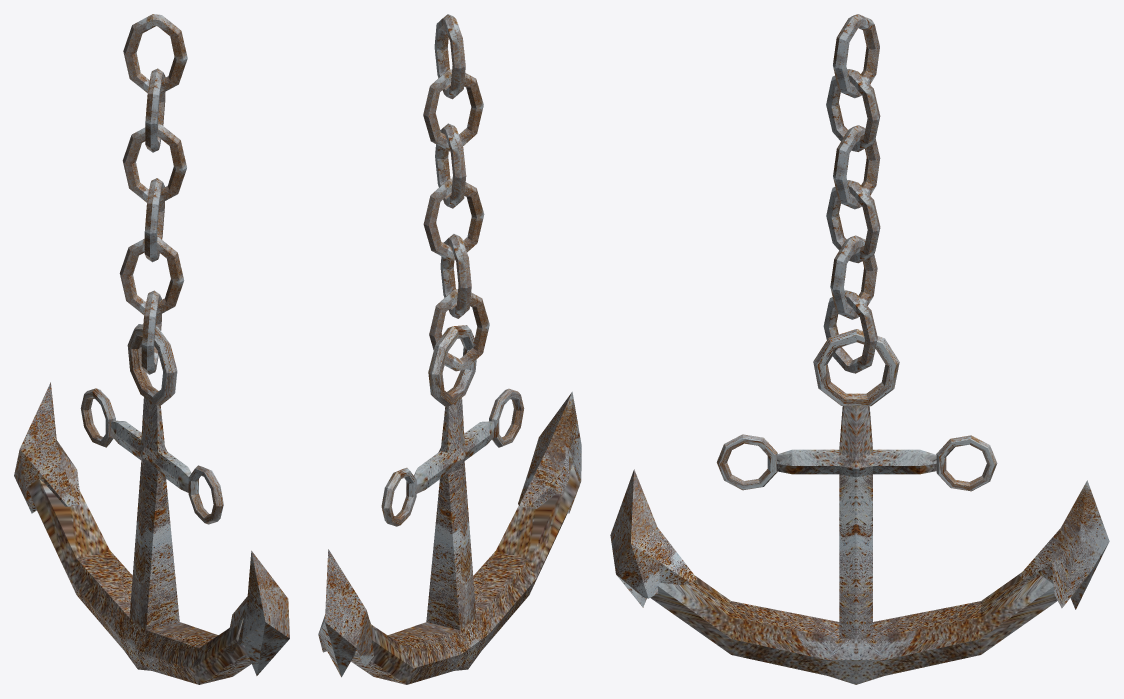
Rendered from Anchor.fbx.
The picture shows the model from 3 angles, left to right: view 1: azimuth 30°, elevation 25°; view 2: azimuth 150°, elevation 25°; view 3: azimuth 270°, elevation 25°; orthographic projection. The views are drawn at different scales.
Parts seen in each view (by area): view 1: Cube, Cone.001, Cone, Torus.019, Torus.002, Torus.017, Torus.015, Torus.016, Torus.018, Torus.014, Torus.001, Torus; view 2: Cube, Cone.001, Cone, Torus.002, Torus.016, Torus.018, Torus.014, Torus.019, Torus.017, Torus.015, Torus, Torus.001; view 3: Cube, Cone.001, Cone, Torus.002, Torus.019, Torus.016, Torus.018, Torus.014, Torus.017, Torus.015, Torus, Torus.001.
Boxes of the visible parts, x1,y1,x2,y2 form: Cube: (27,397,251,684); Cone.001: (225,550,289,675); Cone: (14,382,80,513); Torus.019: (123,14,187,94); Torus.002: (127,324,177,405); Torus.017: (122,124,186,203); Torus.015: (119,237,184,315); Torus.016: (144,178,164,262); Torus.018: (145,68,165,152); Torus.014: (141,290,161,374); Torus.001: (188,465,223,524); Torus: (80,388,115,447); Cube: (351,398,579,684); Cone.001: (518,391,581,513); Cone: (318,549,373,677); Torus.002: (428,325,476,406); Torus.016: (423,178,484,260); Torus.018: (423,69,483,151); Torus.014: (429,289,489,371); Torus.019: (434,14,465,99); Torus.017: (435,123,466,208); Torus.015: (440,234,471,318); Torus: (381,467,416,526); Torus.001: (489,388,524,447); Cube: (650,406,1057,684); Cone.001: (610,469,697,607); Cone: (1019,480,1109,609); Torus.002: (813,329,899,406); Torus.019: (833,14,879,98); Torus.016: (826,180,880,263); Torus.018: (826,69,880,151); Torus.014: (823,290,877,373); Torus.017: (833,125,880,209); Torus.015: (830,235,877,319); Torus: (936,435,997,491); Torus.001: (716,434,777,490).
Bounding box in the file's own units: 57.15 × 656 × 448.
7 materials, 7 textured.
